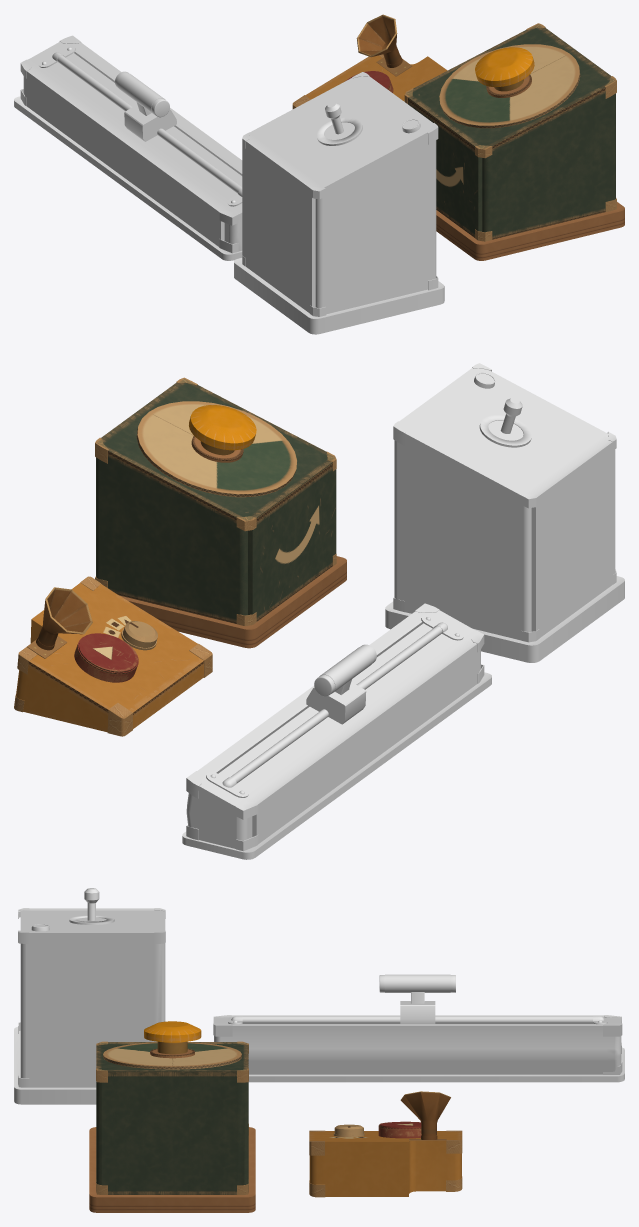
The model's file is StageControls_Painter.fbx.
3 views of the same model, one above another, from view 1: azimuth 30°, elevation 25°; view 2: azimuth 150°, elevation 25°; view 3: azimuth 270°, elevation 25° (orthographic). The views are drawn at different scales.
Parts seen in each view (by area): view 1: LightControl_Case, StageControl_Case, CurtainControl_Case, StageControl_Dial, LightControl_Plinth, StageControl_Plinth, CurtainControl_Plinth, SoundControl_Case, StageControl_Handle, CurtainControl_Rail, SoundControl_Horn, CurtainControl_Grip (+5 smaller); view 2: LightControl_Case, StageControl_Case, CurtainControl_Case, SoundControl_Case, StageControl_Dial, StageControl_Plinth, LightControl_Plinth, CurtainControl_Plinth, StageControl_Handle, SoundControl_PlayButton, SoundControl_Horn, CurtainControl_Rail (+8 smaller); view 3: LightControl_Case, CurtainControl_Case, StageControl_Case, SoundControl_Case, StageControl_Plinth, CurtainControl_Plinth, StageControl_Dial, CurtainControl_Rail, LightControl_Plinth, CurtainControl_Grip, StageControl_Handle, SoundControl_Horn (+4 smaller).
Boxes of the visible parts, x1,y1,x2,y2 form: LightControl_Case: (242, 76, 436, 314); StageControl_Case: (408, 27, 615, 239); CurtainControl_Case: (23, 41, 242, 251); StageControl_Dial: (439, 44, 580, 128); LightControl_Plinth: (234, 258, 444, 334); StageControl_Plinth: (436, 202, 624, 260); CurtainControl_Plinth: (14, 96, 242, 260); SoundControl_Case: (305, 55, 447, 101); StageControl_Handle: (475, 47, 534, 91); CurtainControl_Rail: (57, 55, 242, 193); SoundControl_Horn: (356, 14, 402, 67); CurtainControl_Grip: (115, 71, 169, 117); LightControl_Case: (394, 368, 615, 640); StageControl_Case: (96, 382, 336, 623); CurtainControl_Case: (186, 610, 480, 848); SoundControl_Case: (16, 583, 203, 732); StageControl_Dial: (136, 401, 296, 497); StageControl_Plinth: (120, 556, 346, 648); LightControl_Plinth: (385, 576, 624, 662); CurtainControl_Plinth: (182, 672, 491, 859); StageControl_Handle: (189, 405, 256, 455); SoundControl_PlayButton: (74, 633, 138, 682); SoundControl_Horn: (36, 587, 92, 650); CurtainControl_Rail: (231, 626, 442, 783); LightControl_Case: (20, 908, 165, 1087); CurtainControl_Case: (214, 1015, 621, 1074); StageControl_Case: (96, 1042, 248, 1194); SoundControl_Case: (309, 1131, 461, 1196); StageControl_Plinth: (89, 1127, 255, 1212); CurtainControl_Plinth: (248, 1047, 624, 1082); StageControl_Dial: (103, 1042, 241, 1069); CurtainControl_Rail: (242, 1016, 592, 1023); LightControl_Plinth: (14, 1027, 96, 1104); CurtainControl_Grip: (379, 974, 455, 992); StageControl_Handle: (144, 1021, 201, 1054); SoundControl_Horn: (400, 1091, 450, 1139).
Bounding box in the file's own units: 259 × 401 × 135.
